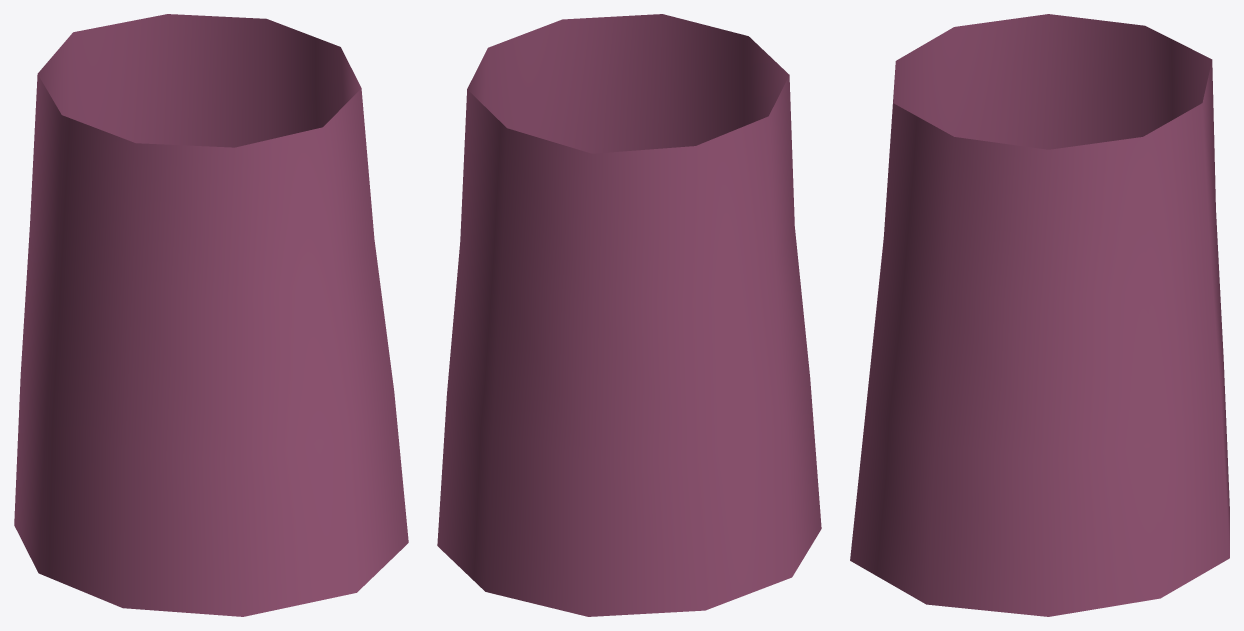
File: princess_outfit_bracer.R.glb
3 renders of one model, left to right at view 1: azimuth 30°, elevation 25°; view 2: azimuth 150°, elevation 25°; view 3: azimuth 270°, elevation 25°, orthographic.
Parts seen in each view (by area): view 1: princess_outfit_bracer.R; view 2: princess_outfit_bracer.R; view 3: princess_outfit_bracer.R.
Boxes of the visible parts, box(x1,y1,x2,y2) form: princess_outfit_bracer.R: box(14, 14, 408, 616); princess_outfit_bracer.R: box(437, 14, 821, 616); princess_outfit_bracer.R: box(850, 14, 1229, 616).
Bounding box in the file's own units: 0.1208 × 0.1562 × 0.1192.
